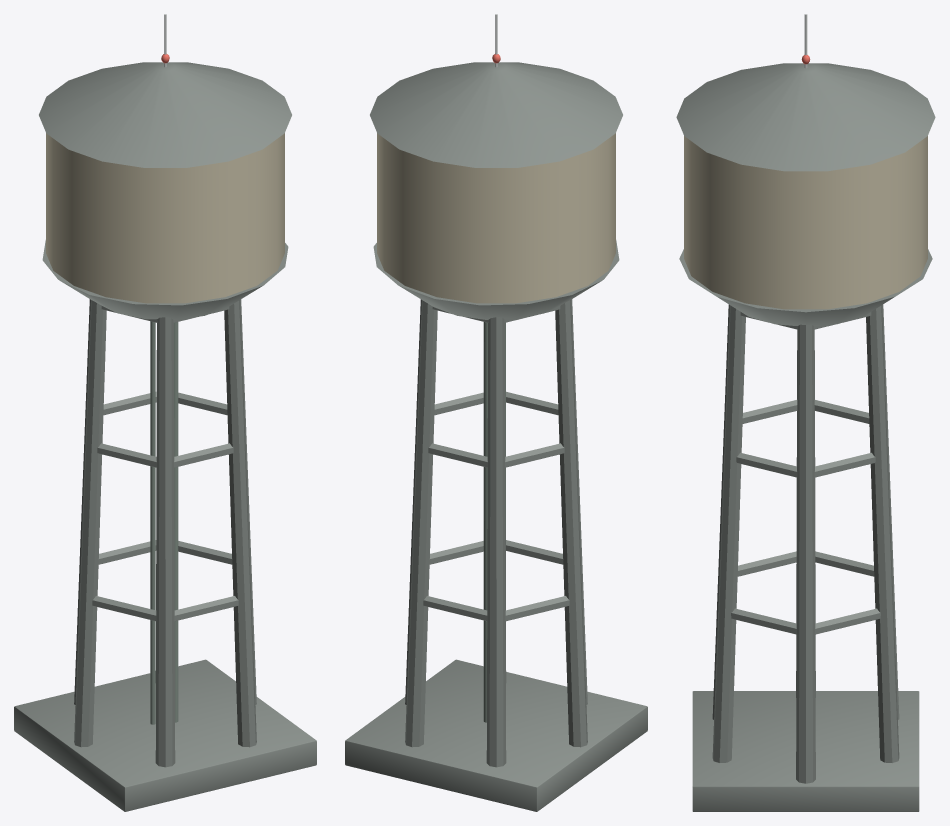
File: CTCC_ENV_WaterTowerAndRoofKit.fbx
3 views of the same model, side by side, from view 1: azimuth 30°, elevation 25°; view 2: azimuth 150°, elevation 25°; view 3: azimuth 270°, elevation 25° (orthographic). The views are drawn at different scales.
Visible parts, largest first — view 1: CTCC_ENV_WaterTowerAndRoofKit_LOD0; view 2: CTCC_ENV_WaterTowerAndRoofKit_LOD0; view 3: CTCC_ENV_WaterTowerAndRoofKit_LOD0.
Boxes of the visible parts, x1,y1,x2,y2 form: CTCC_ENV_WaterTowerAndRoofKit_LOD0: (14,14,316,811); CTCC_ENV_WaterTowerAndRoofKit_LOD0: (345,14,647,811); CTCC_ENV_WaterTowerAndRoofKit_LOD0: (676,14,935,811).
Size of what is drawn, in the model's own units: 5.4 by 17.5 by 5.48.
